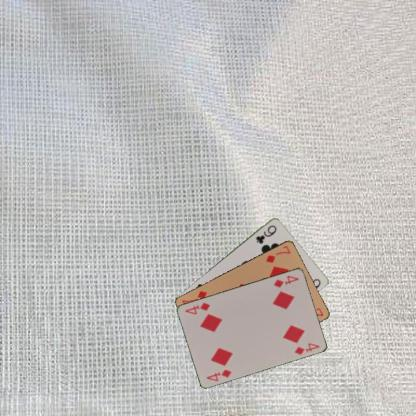4d: (271, 273, 300, 289), (204, 366, 233, 382)
7d: (263, 243, 292, 264)
9c: (253, 222, 278, 245)
